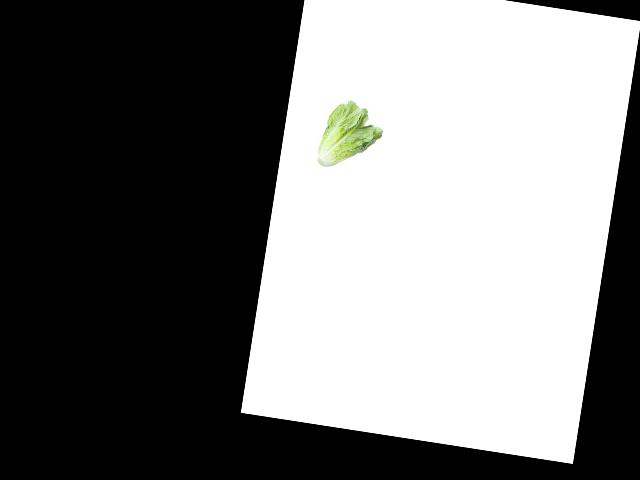lettuce: (312, 96, 390, 172)
